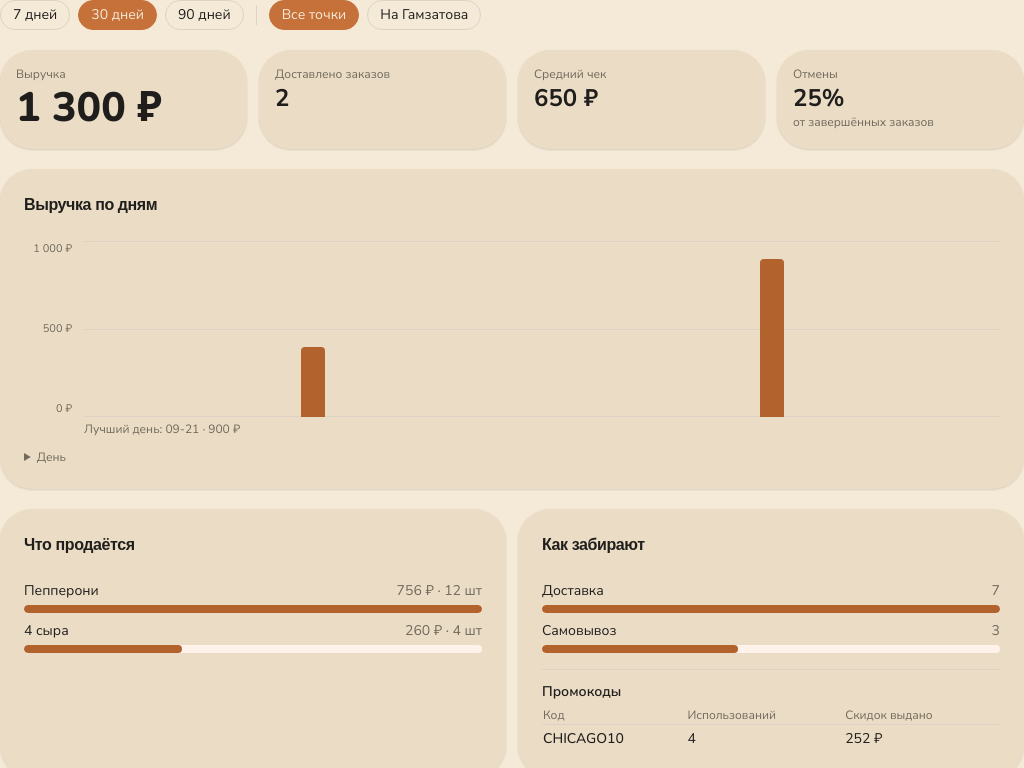
Scenario: AdminAnalyticsPage — what sells › reports a promocode that cost money and one that did not
This screenshot has width=1024, height=768.
Check: the text "CHICAGO10" is shown, box top-left (542, 725), bottom-right (686, 753)
Click the button "7 дней": {"x": 35, "y": 15} top-left (0, 0), bottom-right (70, 30)
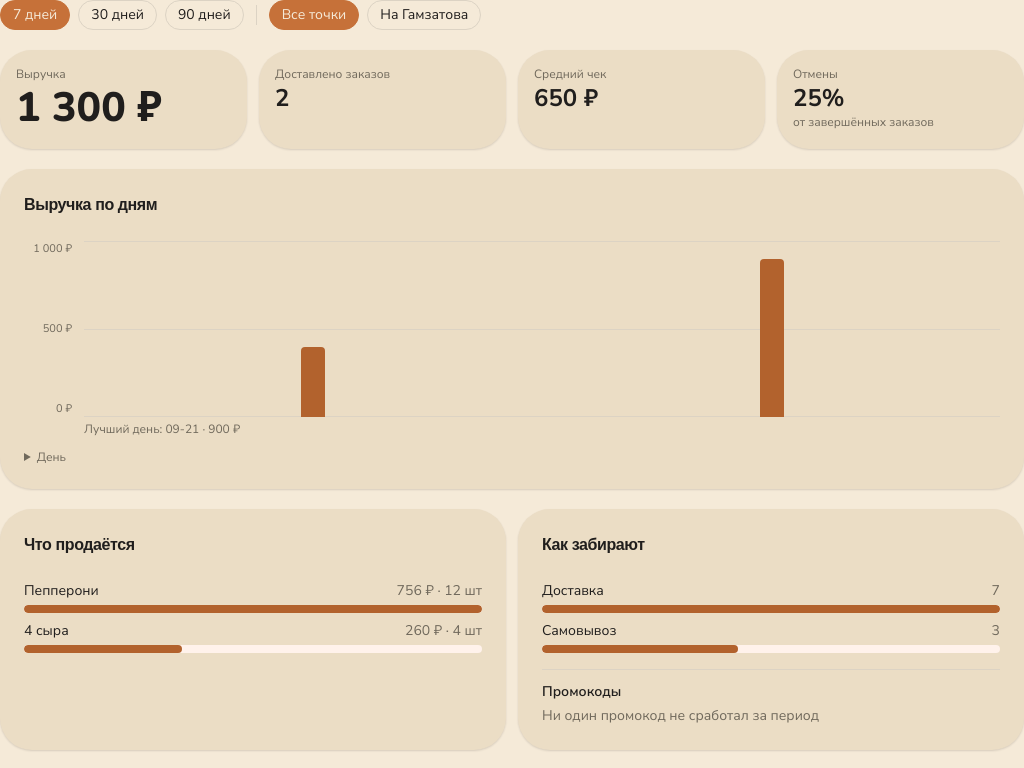
Check: the text "Ни один промокод не сработал за период" is shown, box top-left (542, 706), bottom-right (819, 725)
